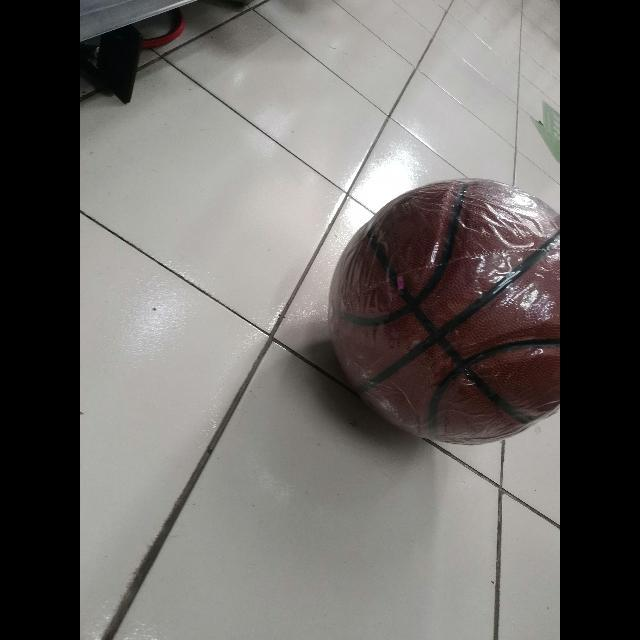basketball: (336, 180, 560, 446)
